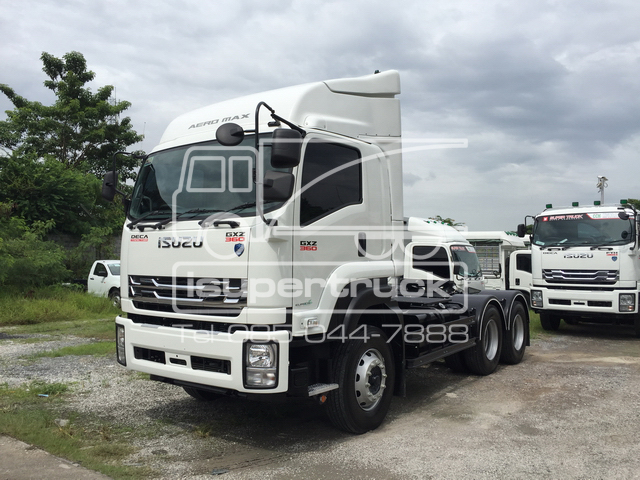truck: (112, 63, 529, 420), (523, 193, 640, 331)
